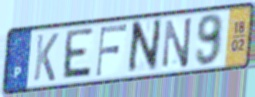9: (193, 11, 226, 68)
E: (60, 25, 96, 81)
F: (94, 23, 129, 79)
K: (32, 32, 61, 83)
N: (125, 16, 164, 78), (161, 15, 194, 70)
